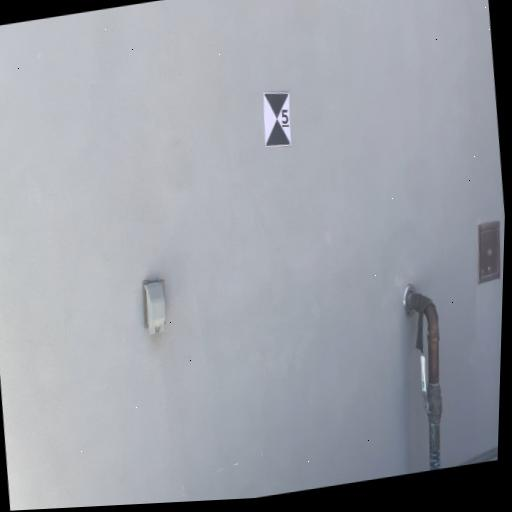target5: (262, 89, 295, 149)
